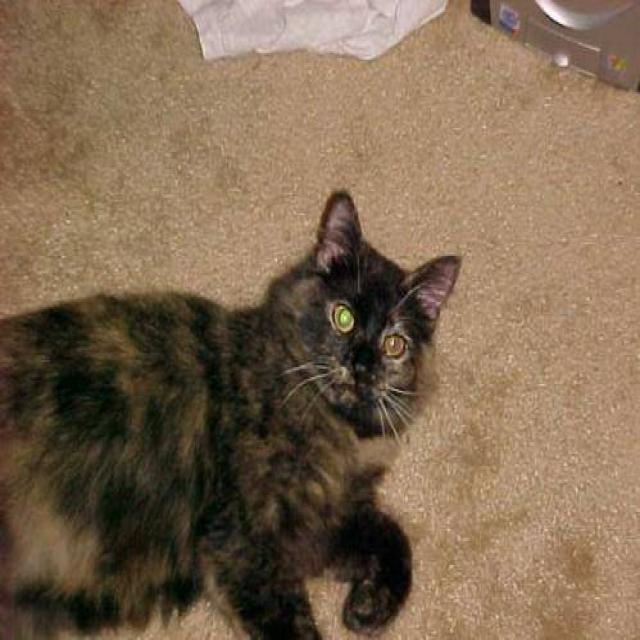cat: (0, 188, 462, 638)
